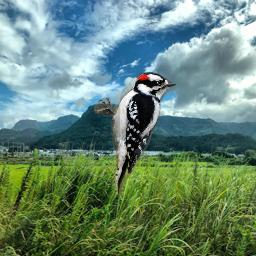Woodpecker: (94, 72, 176, 196)
